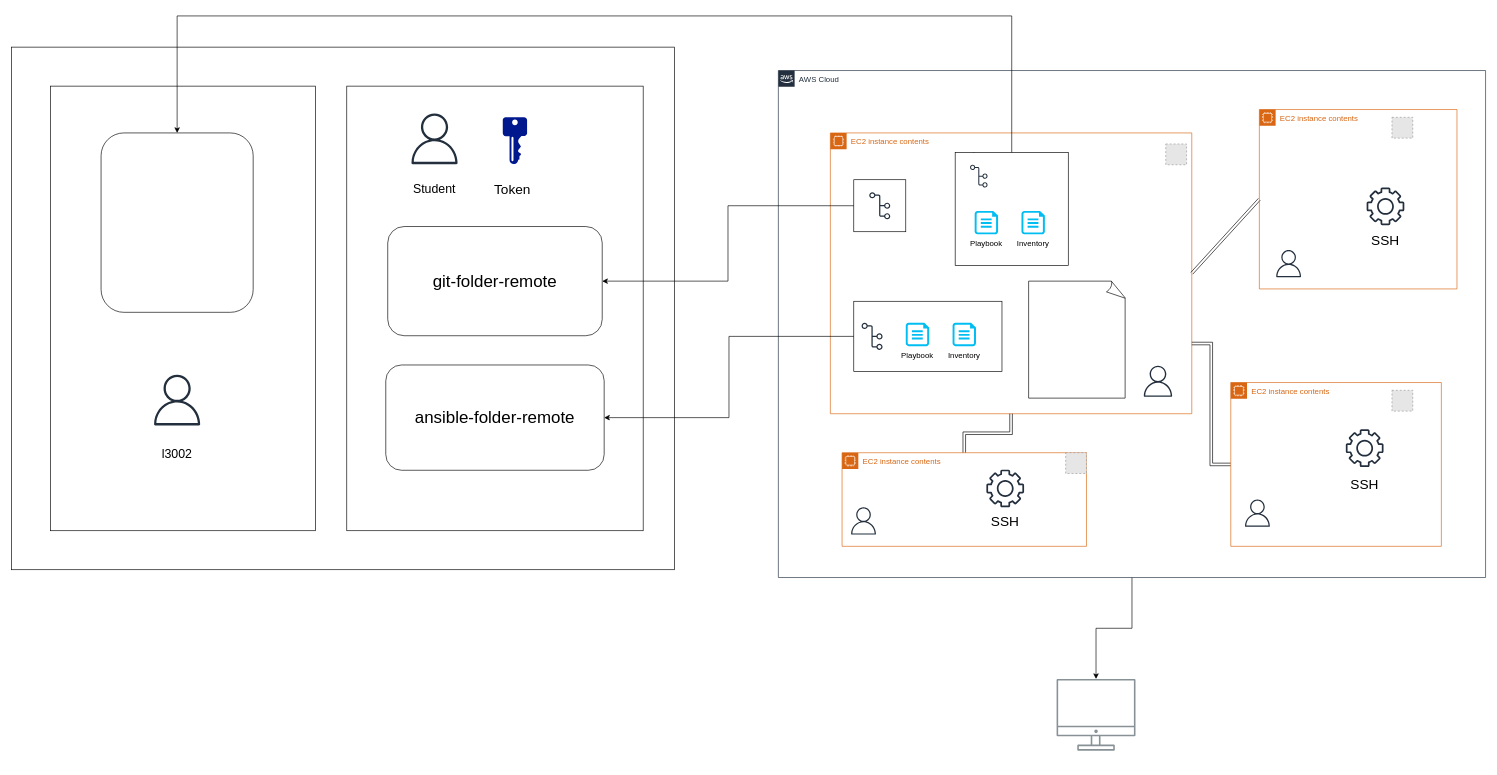
This 1497x775 diagram has some shape labels left out. Grey dashed boxes stand in for pictures. The centre of each missing label's shape, as x and y in pixels:
ansible.cfg: (1077,339)
desktop: (1095,714)
nu-tech-P1: (176,222)
